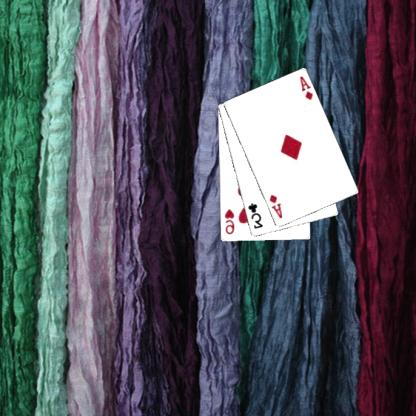3C: (247, 201, 266, 230)
9H: (224, 206, 237, 236)
AD: (268, 192, 286, 220), (299, 74, 316, 102)
